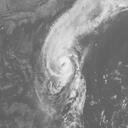cyclone: (39, 45, 88, 106)
